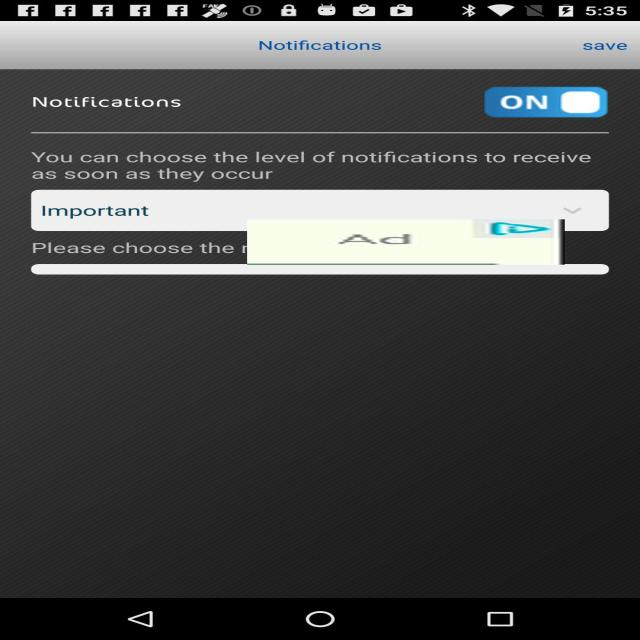sneaking: (247, 219, 565, 265)
